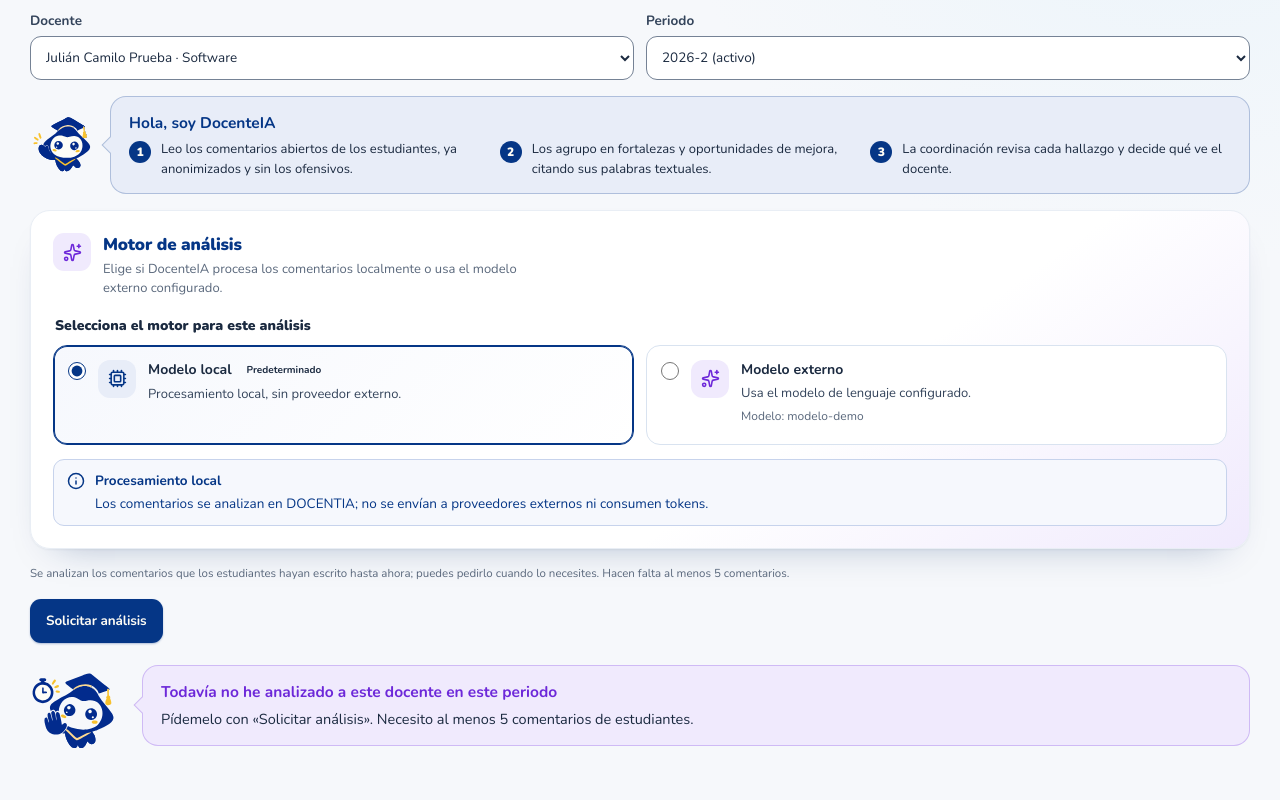
Test: Analisis › solicitar un análisis lo pone en cola y lo sigue
This screenshot has width=1280, height=800.
(page scrolled)
Click the button "Solicitar análisis". click: click(96, 620)
box: [30,598,163,642]
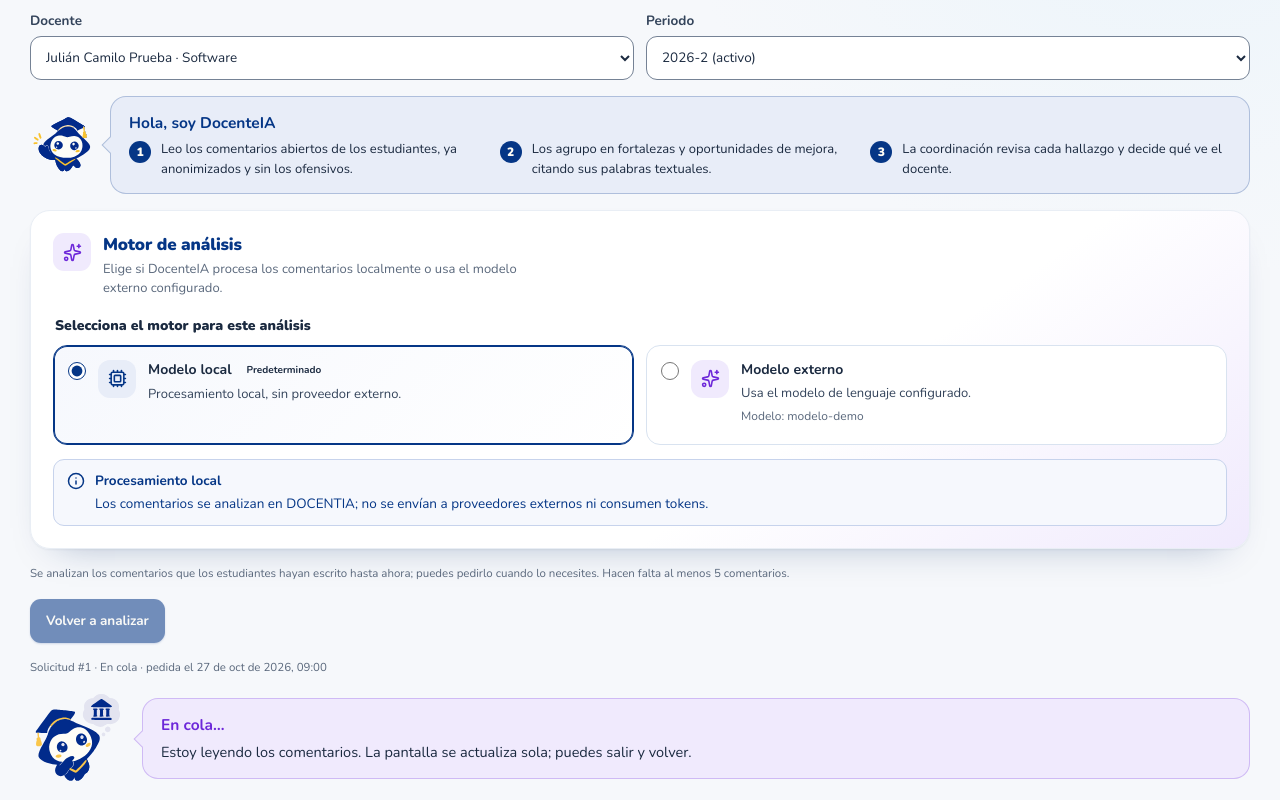
Expected: the text "En cola…" is shown, [161,714,225,735]
Expected: the button "Volver a analizar" is disabled, [30,598,165,642]
